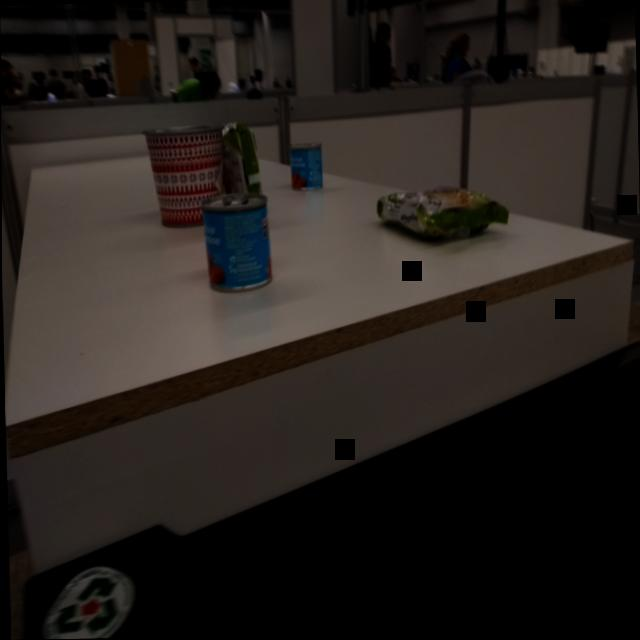noodles: (373, 178, 511, 251)
sausages: (199, 190, 274, 298), (287, 139, 325, 196)
